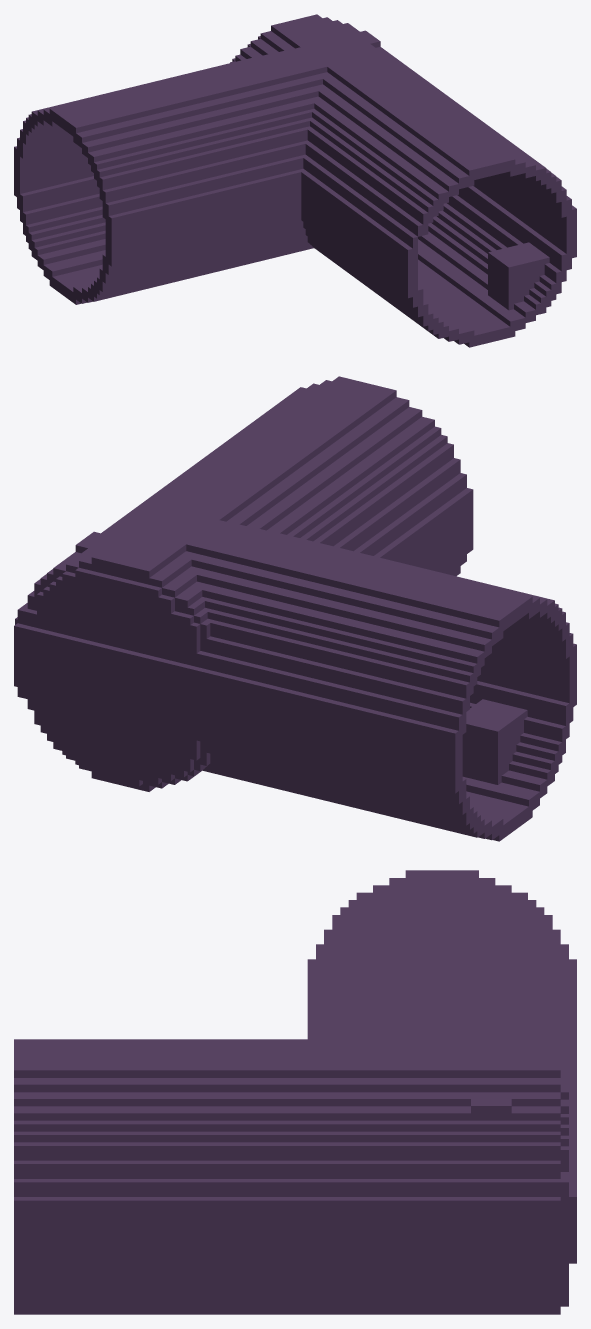
The model's file is 90DegreeTunnel.dae.
3 renders of one model, top to bottom at view 1: azimuth 30°, elevation 25°; view 2: azimuth 150°, elevation 25°; view 3: azimuth 270°, elevation 25°, orthographic. The views are drawn at different scales.
Parts seen in each view (by area): view 1: 90DegreeTunnel; view 2: 90DegreeTunnel; view 3: 90DegreeTunnel.
Part boxes in pixels (bbox=[...]): 90DegreeTunnel: bbox=[14, 14, 576, 347]; 90DegreeTunnel: bbox=[14, 376, 576, 841]; 90DegreeTunnel: bbox=[14, 870, 576, 1314].
Bounding box in the file's own units: 7 × 3.3 × 6.9.
1 material, 1 textured.
